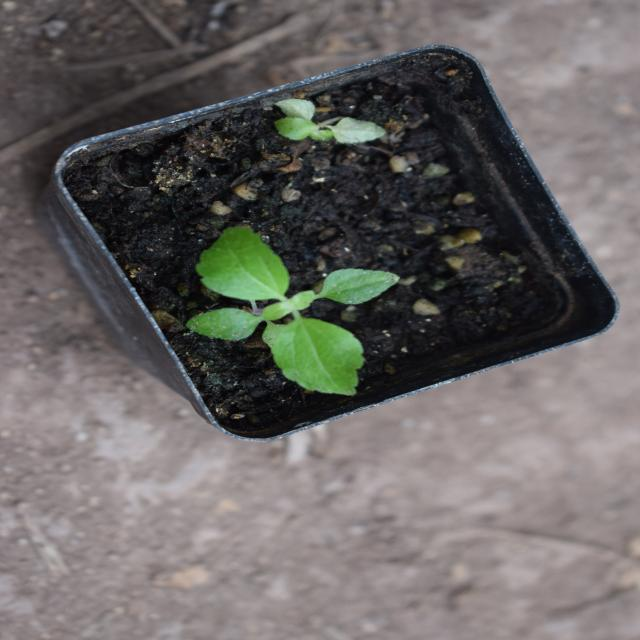billygoat_weed: (236, 249, 395, 455)
